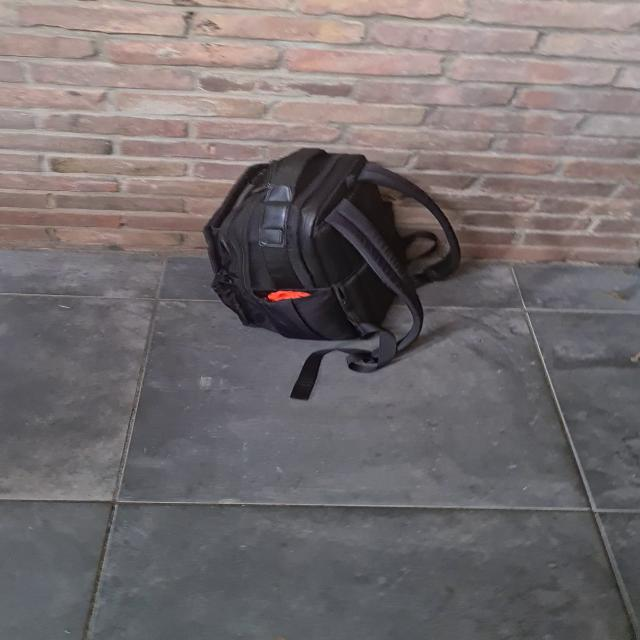backpack: (193, 140, 462, 368)
